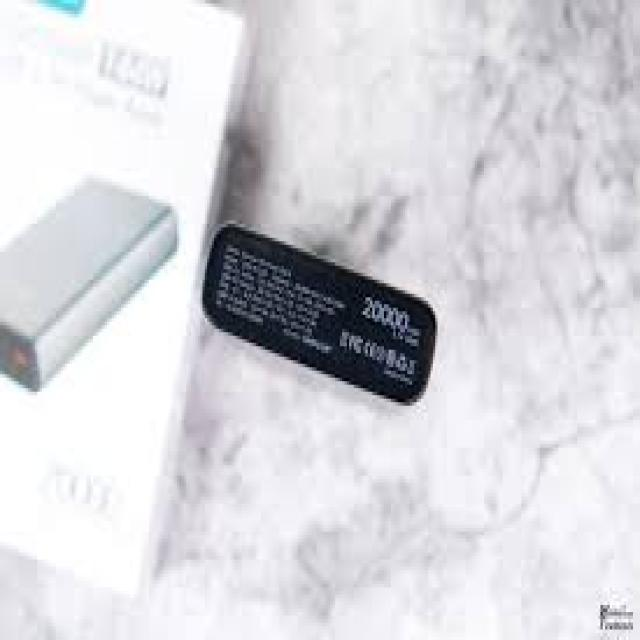portable-charger: (1, 175, 182, 393)
